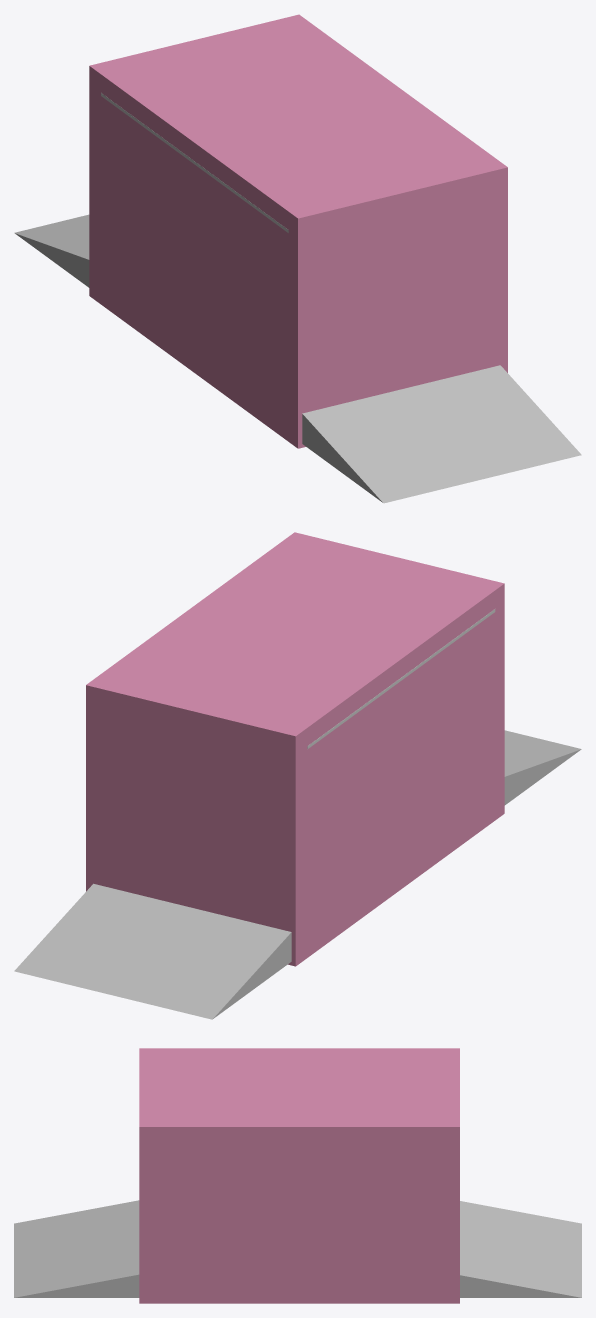
Rendered from ind_bld_tin_01_shed.dae.
The picture shows the model from 3 angles, top to bottom: view 1: azimuth 30°, elevation 25°; view 2: azimuth 150°, elevation 25°; view 3: azimuth 270°, elevation 25°; orthographic projection. The views are drawn at different scales.
Parts seen in each view (by area): view 1: Untitled, ind_bld_a600; view 2: Untitled, ind_bld_a600; view 3: Untitled, ind_bld_a600.
Boxes of the visible parts, bbox=[...] form: Untitled: bbox=[89, 14, 507, 448]; ind_bld_a600: bbox=[14, 93, 581, 503]; Untitled: bbox=[86, 532, 504, 966]; ind_bld_a600: bbox=[14, 609, 581, 1019]; Untitled: bbox=[139, 1048, 459, 1303]; ind_bld_a600: bbox=[14, 1200, 581, 1297].
Size of the model in its own units: 6.53 by 19.92 by 6.84.
